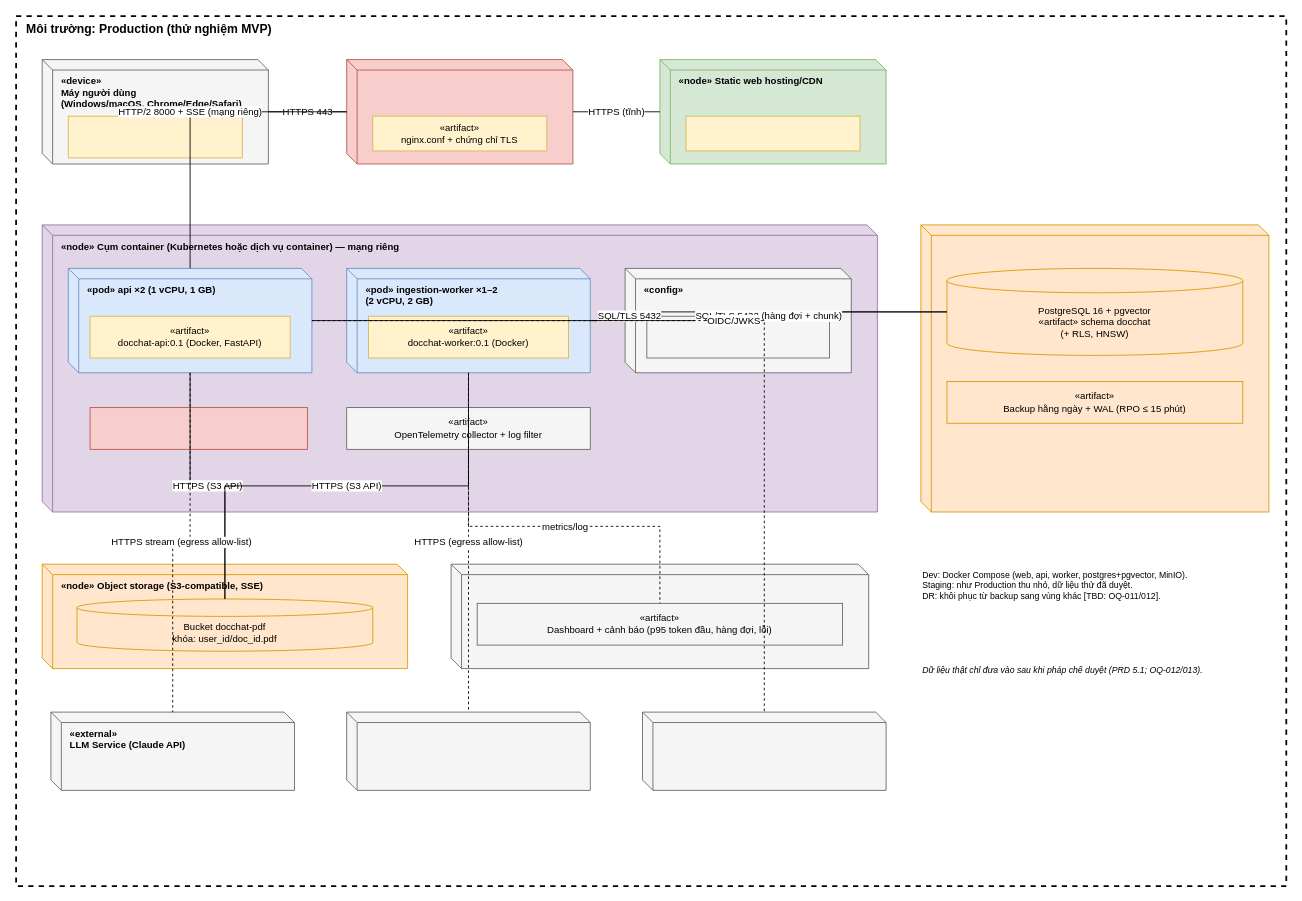
The diagram is 1302 pixels wide and 901 high, and some of its shapes have lost their labels. Each missing label, with the box of its shape:
«artifact» ConfigMap: app_config, flags (qa_enabled, limits): (646, 315, 830, 358)
«artifact» Secrets: khóa DB, LLM, S3, JWT: (89, 407, 308, 449)
«artifact» SPA bundle (JS/CSS) đã tải từ web node: (67, 115, 242, 158)
«artifact» web-bundle (React build): (685, 115, 860, 151)
«executionEnvironment» Reverse proxy / WAF TLS 1.2+ · rate limit · CORS: (346, 59, 573, 164)
«external» Embedding Service: (346, 711, 590, 790)
«external» Identity Provider (OIDC): (642, 711, 886, 790)
«node» Giám sát (Prometheus/Grafana, log store): (450, 563, 869, 669)
«node» Máy chủ CSDL (2 vCPU, 8 GB, SSD): (920, 224, 1269, 512)
